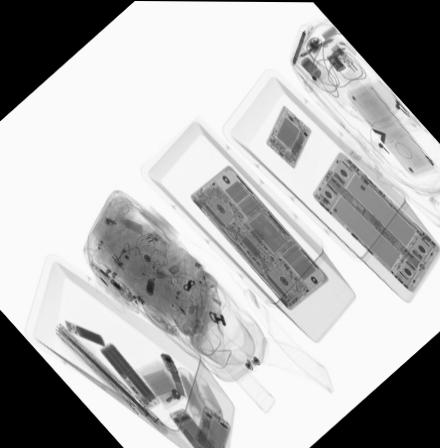Powerbank: (345, 78, 439, 178), (98, 338, 164, 410), (137, 357, 188, 410)
